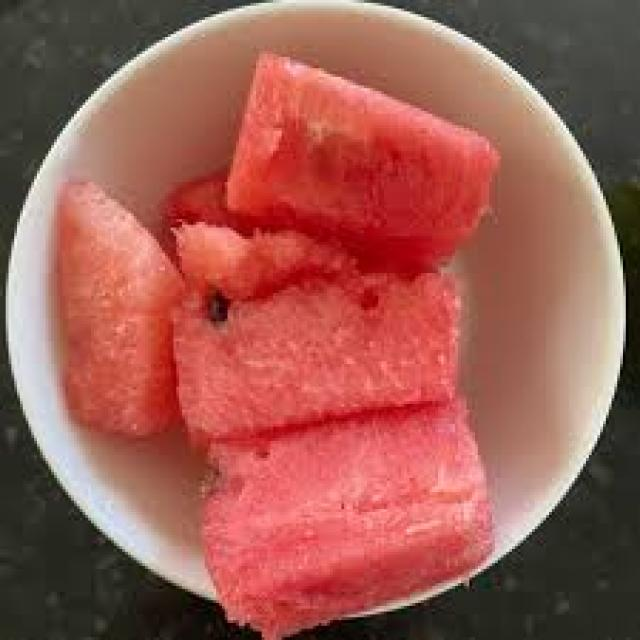watermelon: (199, 393, 495, 637), (222, 48, 500, 273), (54, 179, 185, 438)
